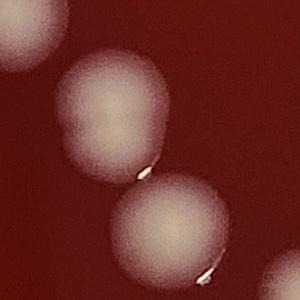colony: (102, 172, 235, 290), (49, 44, 175, 137), (49, 115, 169, 184), (0, 0, 73, 81), (250, 240, 300, 300)
